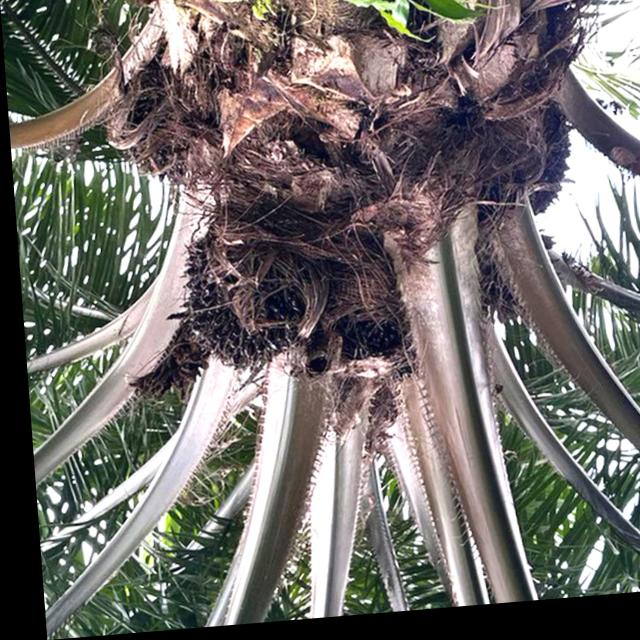unripe: (161, 224, 324, 388), (308, 302, 423, 401)
